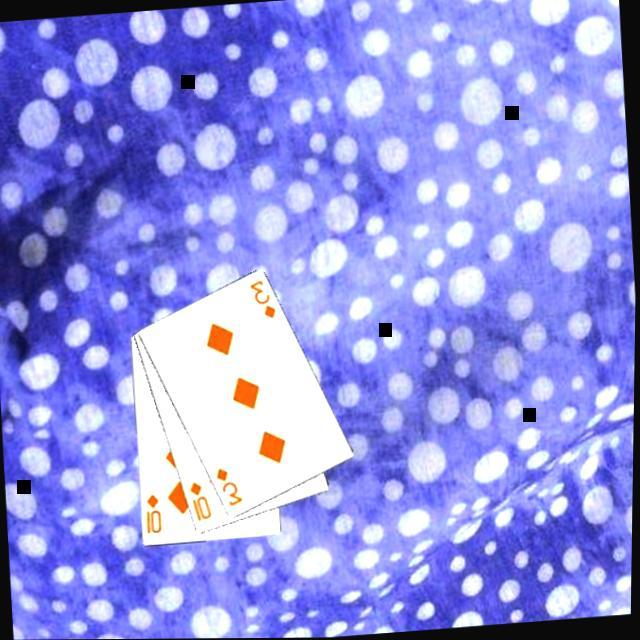10D: (186, 480, 216, 528), (143, 492, 167, 538)
3D: (246, 278, 282, 325), (214, 464, 248, 512)
